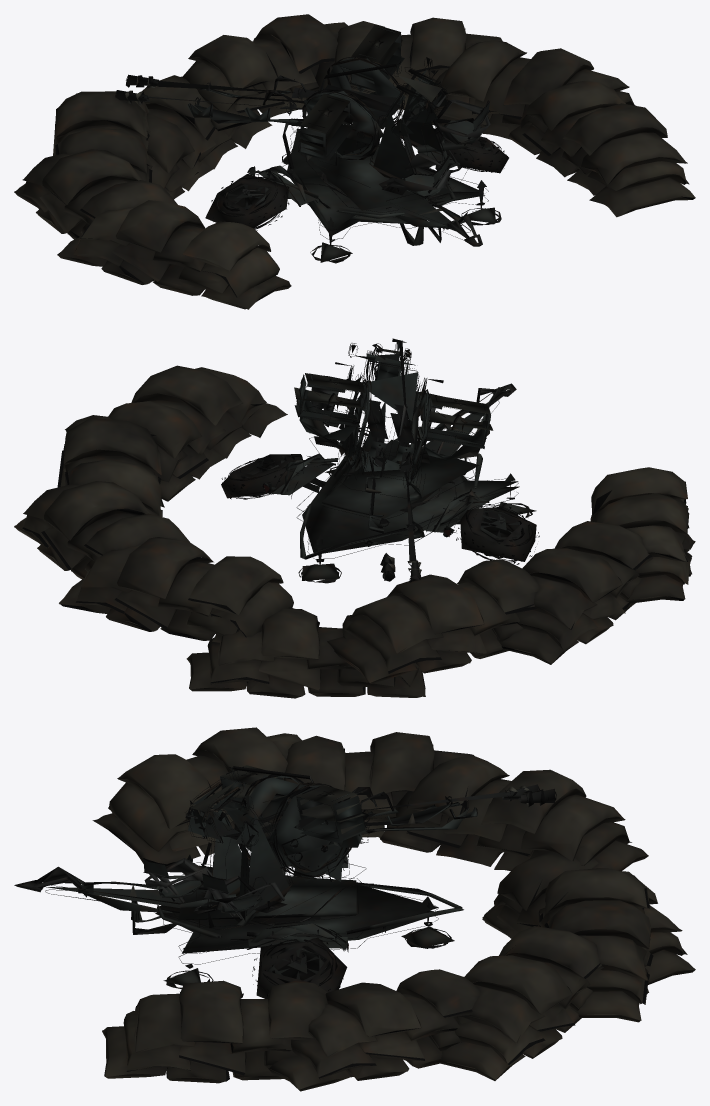
The model's file is agun-wreck.glb.
3 renders of one model, top to bottom at view 1: azimuth 30°, elevation 25°; view 2: azimuth 150°, elevation 25°; view 3: azimuth 270°, elevation 25°, orthographic. The views are drawn at different scales.
Visible parts, largest first — view 1: hull, turret, barrel; view 2: hull, turret, barrel; view 3: hull, turret, barrel.
Part boxes in pixels (<box>): hull: <box>14,14,695,309</box>; turret: <box>296,24,490,201</box>; barrel: <box>115,67,330,132</box>; hull: <box>14,365,695,698</box>; turret: <box>293,338,493,498</box>; barrel: <box>353,419,427,582</box>; hull: <box>14,727,695,1091</box>; turret: <box>143,765,373,929</box>; barrel: <box>302,784,556,857</box>.
Bounding box in the file's own units: 5.98 × 1.95 × 5.24.
1 material, 1 textured.
